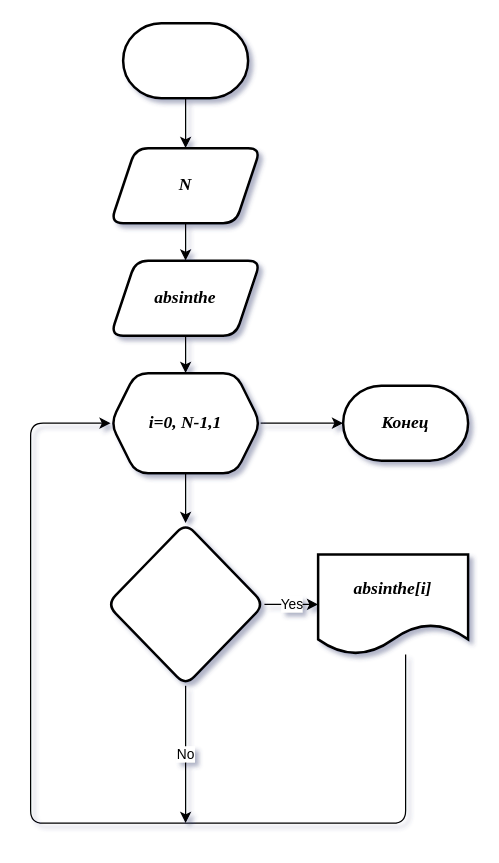
Some shapes in this 499 by 863 pixel diagram are drawn without their labels. Each missing label, with the box of its shape:
Кол-во символов в absinthe[i] <= 3: (105, 521, 265, 686)
Начало: (121, 21, 249, 99)
